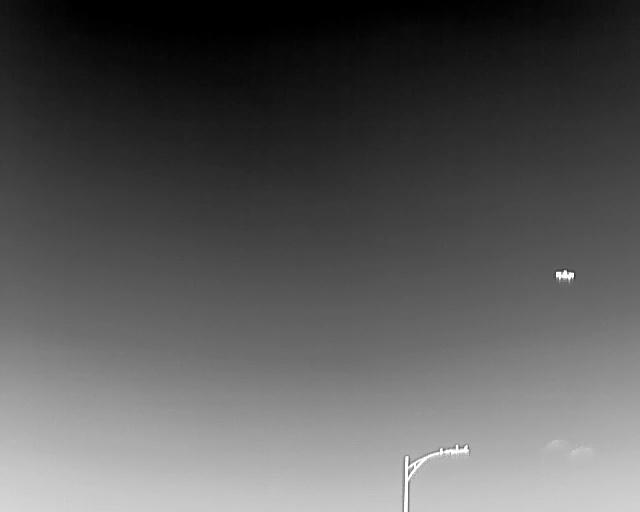fpv-drone: (555, 270, 574, 282)
